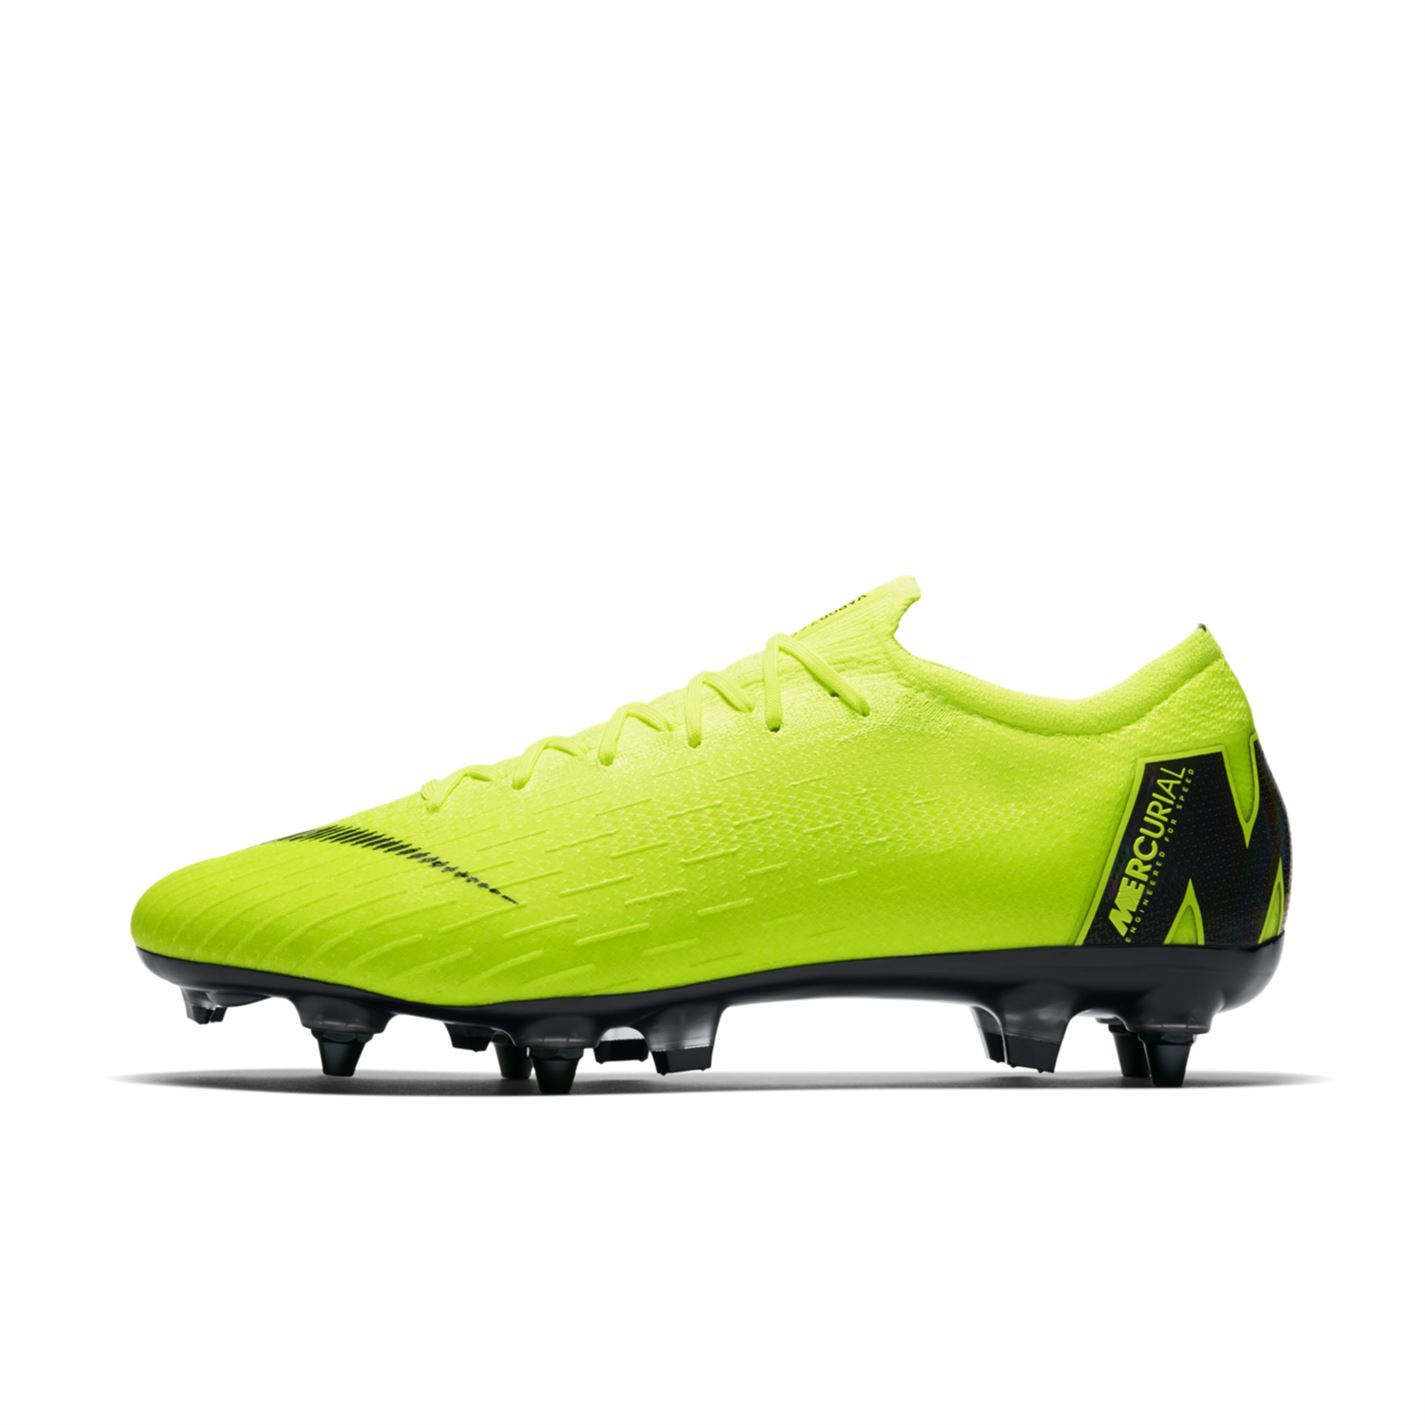football boots: (127, 568, 1295, 1090)
